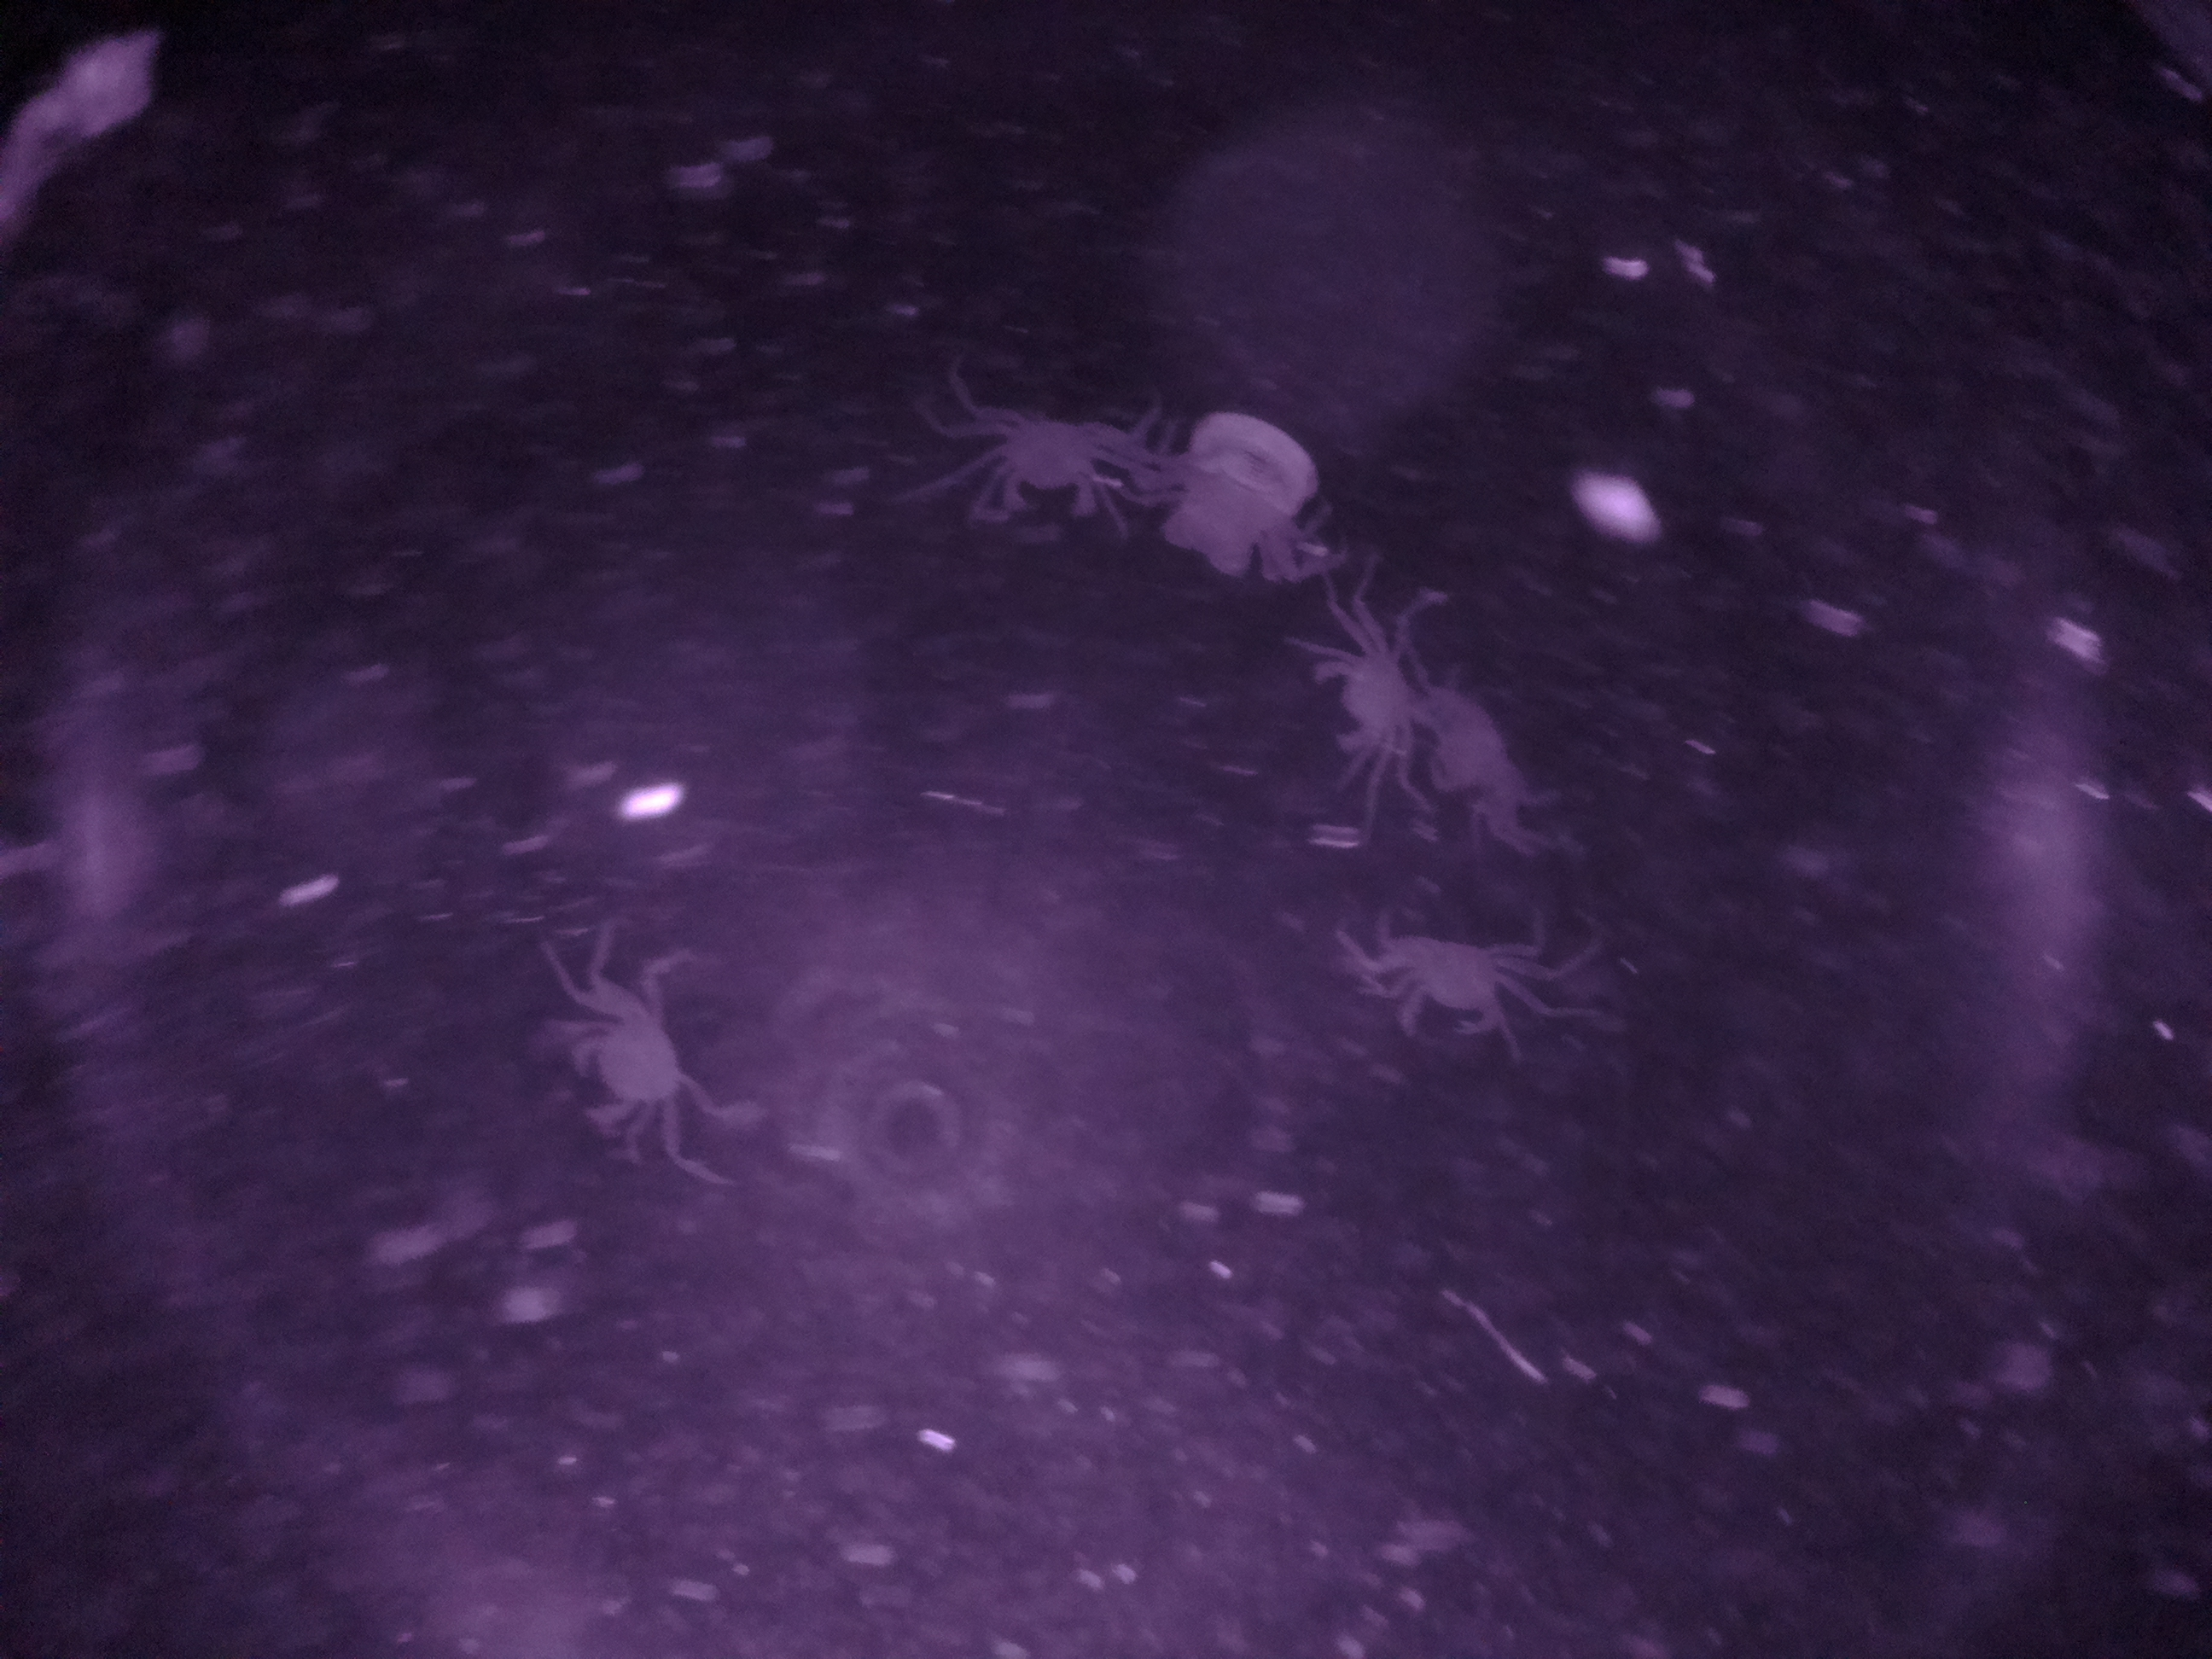Crab: (1346, 889, 1580, 1053), (552, 936, 700, 1166), (928, 396, 1162, 537), (1299, 580, 1433, 821)
